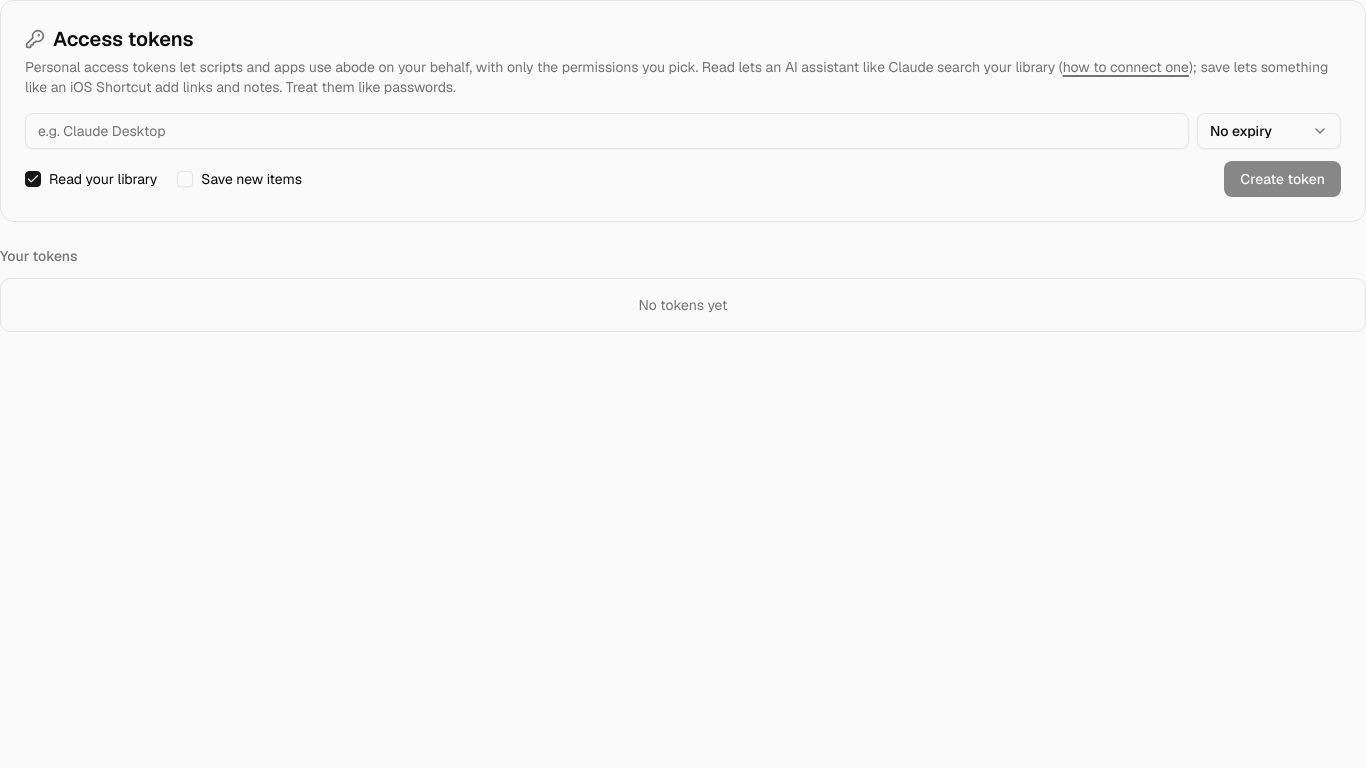
it: TokenSettings › creates a token, reveals it once, and adds it to the list
This screenshot has width=1366, height=768.
Type "Claude Desktop" into the field with placeholder "e.g. Claude Desktop" at (607, 131), box top-left (25, 113), bottom-right (1189, 149)
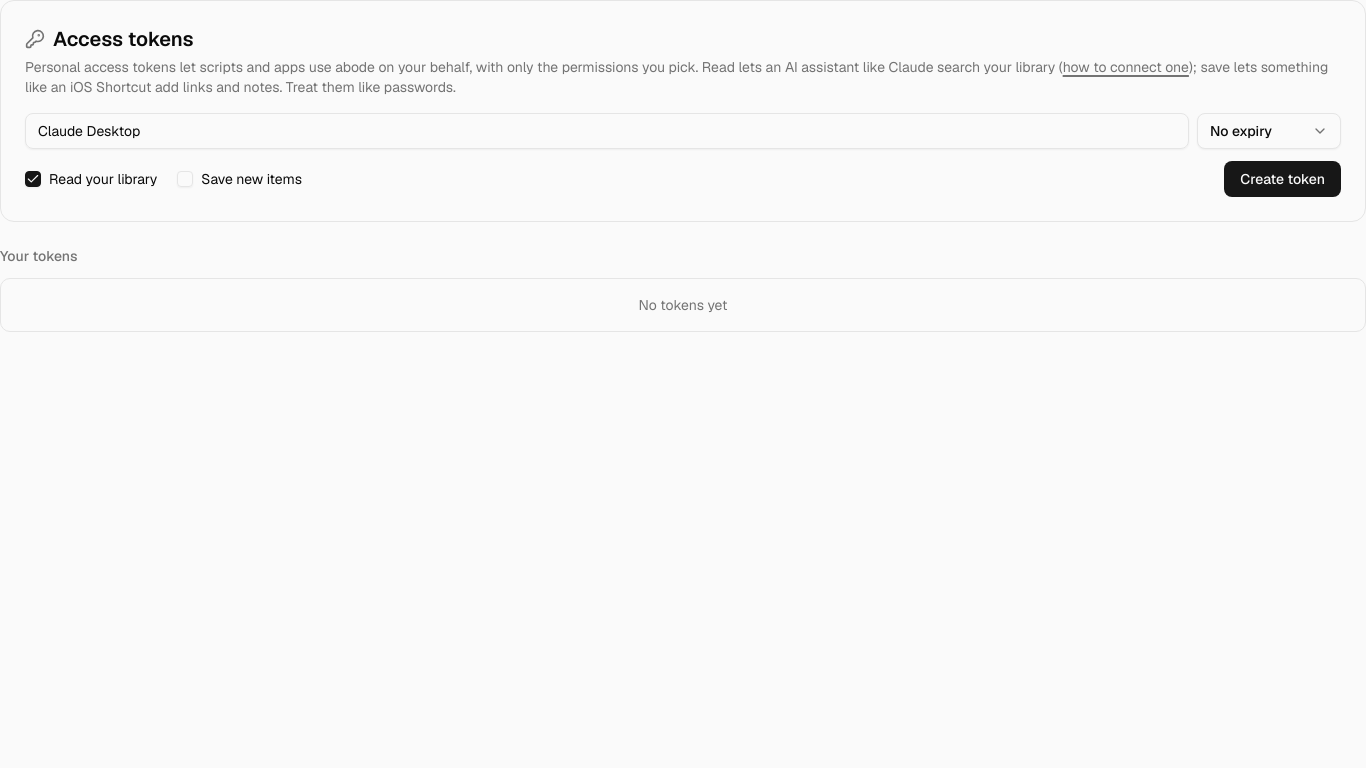
Click the button "Create token" at (1283, 179), box top-left (1224, 161), bottom-right (1341, 197)
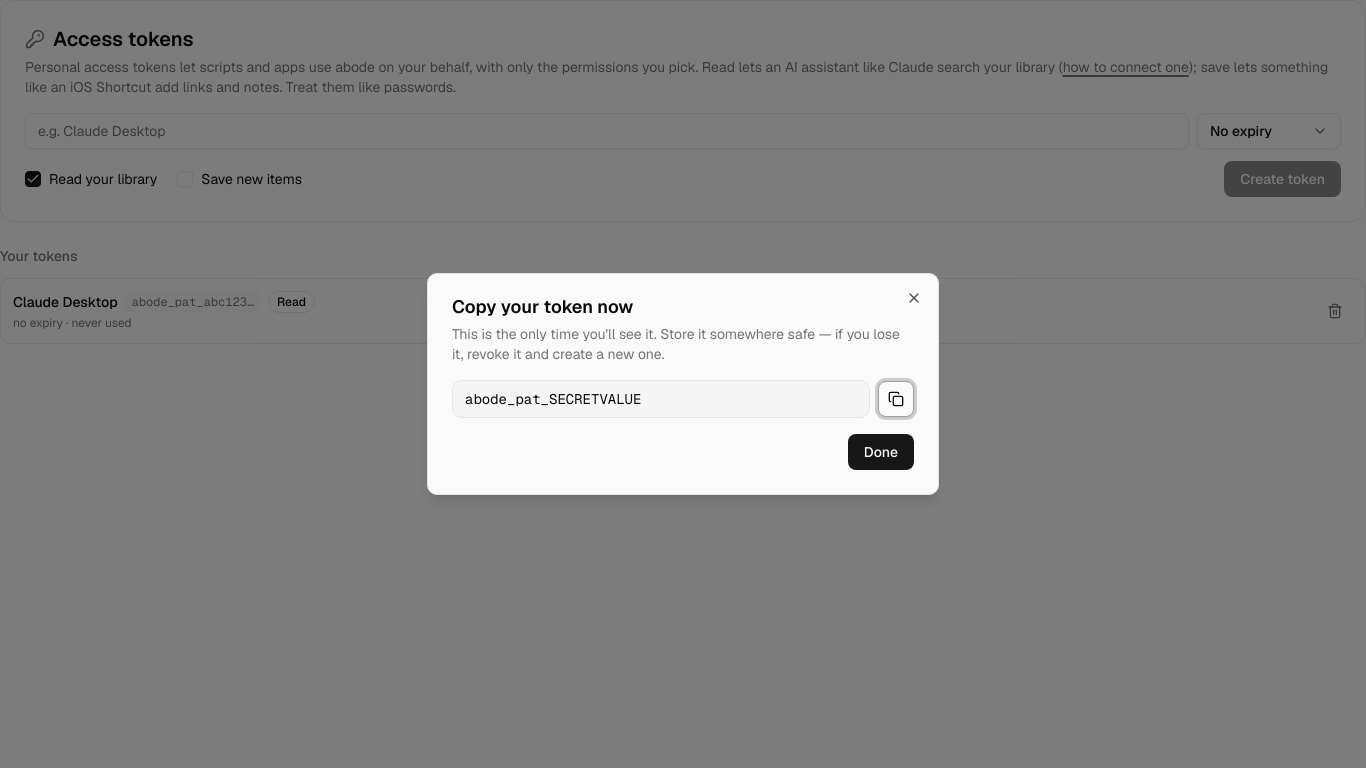
Now the text with test id "new-token-value" reads "abode_pat_SECRETVALUE", box top-left (465, 390), bottom-right (641, 408)
Now the text "Claude Desktop" is shown, box top-left (13, 292), bottom-right (118, 312)
